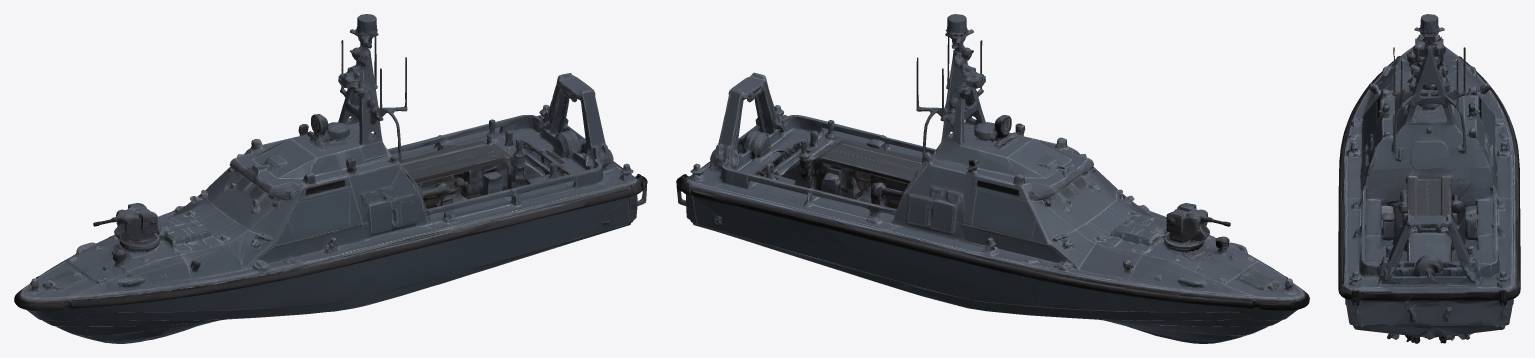
The model's file is mcm-usv-meshy6-web-v1.glb.
3 views of the same model, side by side, from view 1: azimuth 30°, elevation 25°; view 2: azimuth 150°, elevation 25°; view 3: azimuth 270°, elevation 25° (orthographic). The views are drawn at different scales.
Size of the model in its own units: 1.9 by 0.8282 by 0.5544.
1 material, 1 textured.
